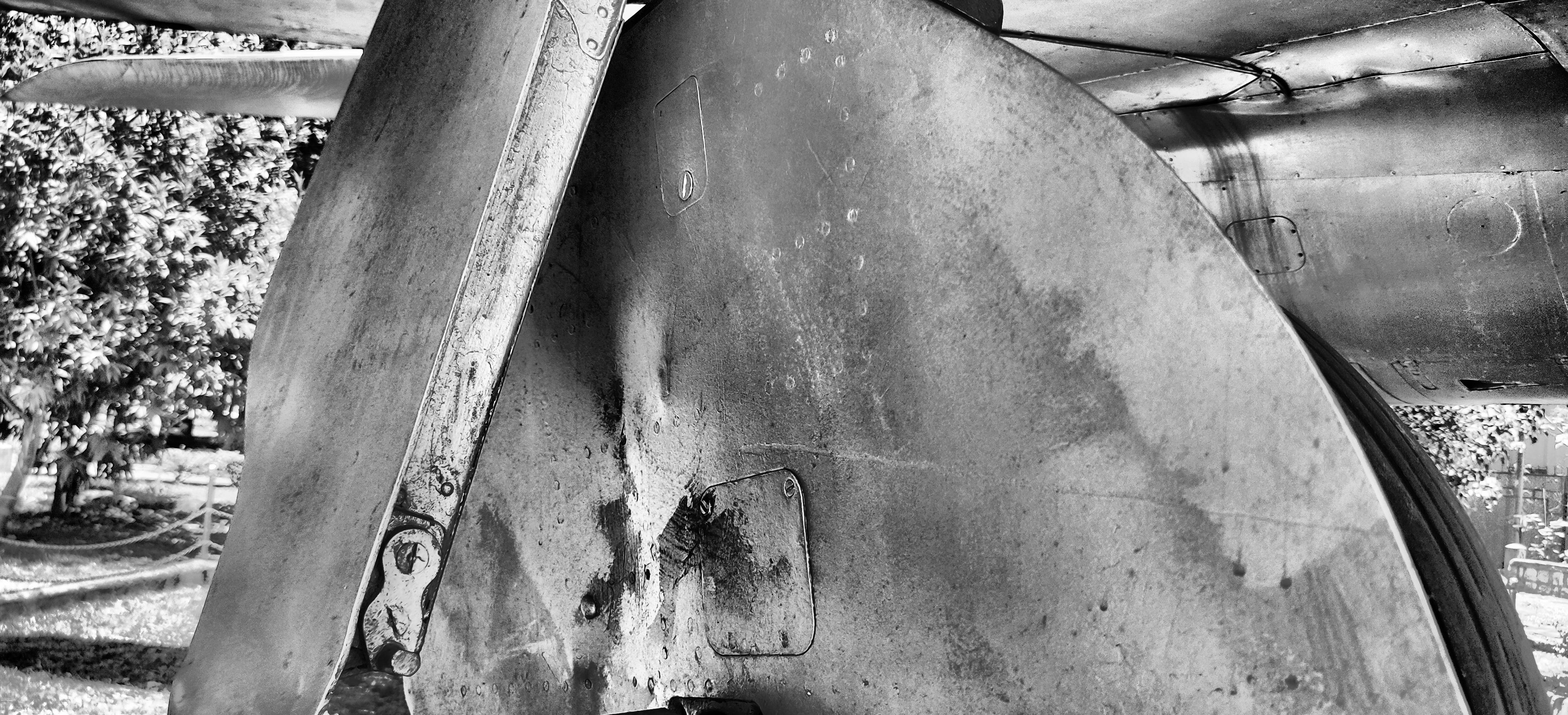dent: (487, 507, 574, 670), (1196, 76, 1378, 118), (602, 367, 641, 488), (557, 637, 612, 713), (1156, 125, 1286, 157), (1382, 74, 1466, 93), (653, 349, 672, 408)
missing-head: (1270, 218, 1275, 223), (1292, 229, 1297, 234), (1255, 269, 1261, 273)
